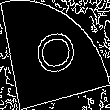O_W: (30, 29, 80, 82)
